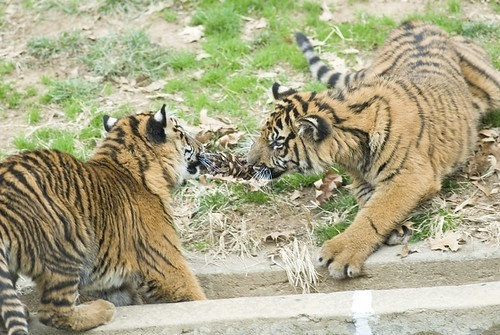tigre: (249, 17, 500, 279), (1, 103, 213, 333)
